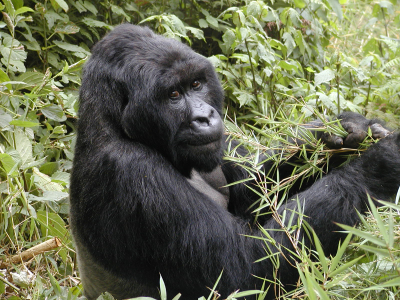Goriila: (71, 27, 341, 300)
